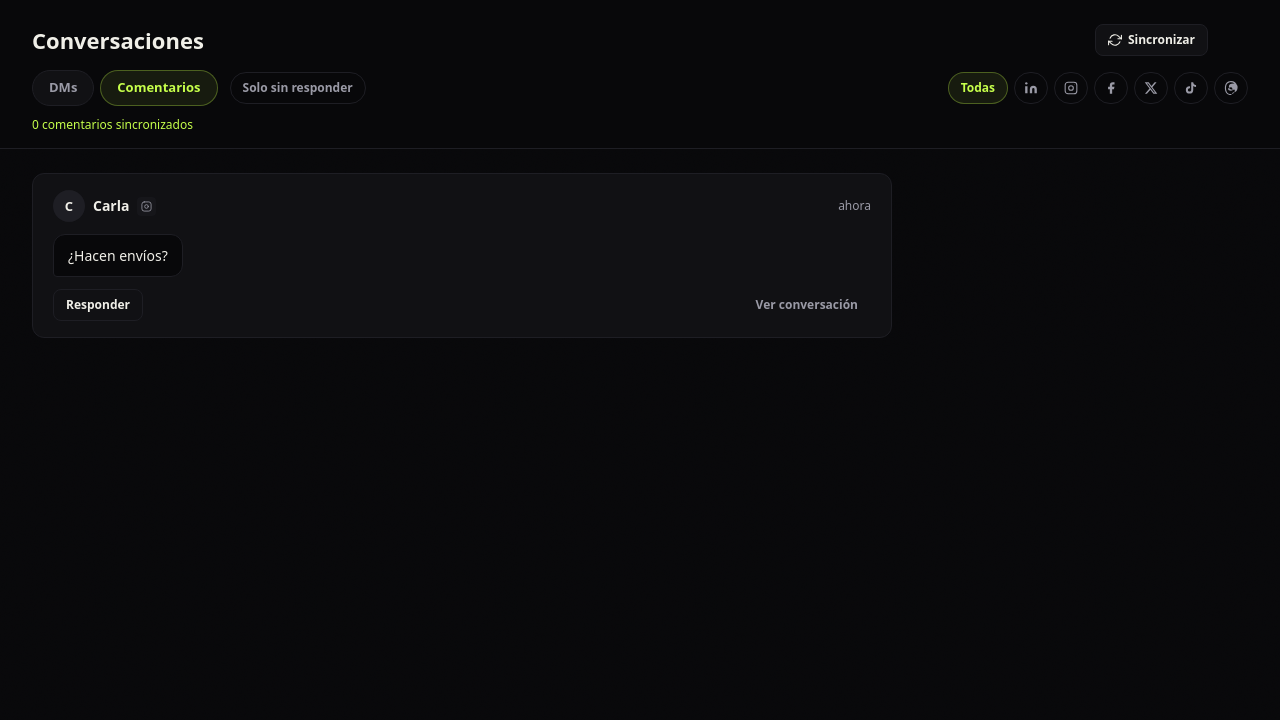
it: Conversaciones — pestañas y comentarios › «Ver conversación» abre el diálogo compartido con la conversación completa
Click the button "Ver conversación".
click(807, 305)  # box [743,289,871,321]
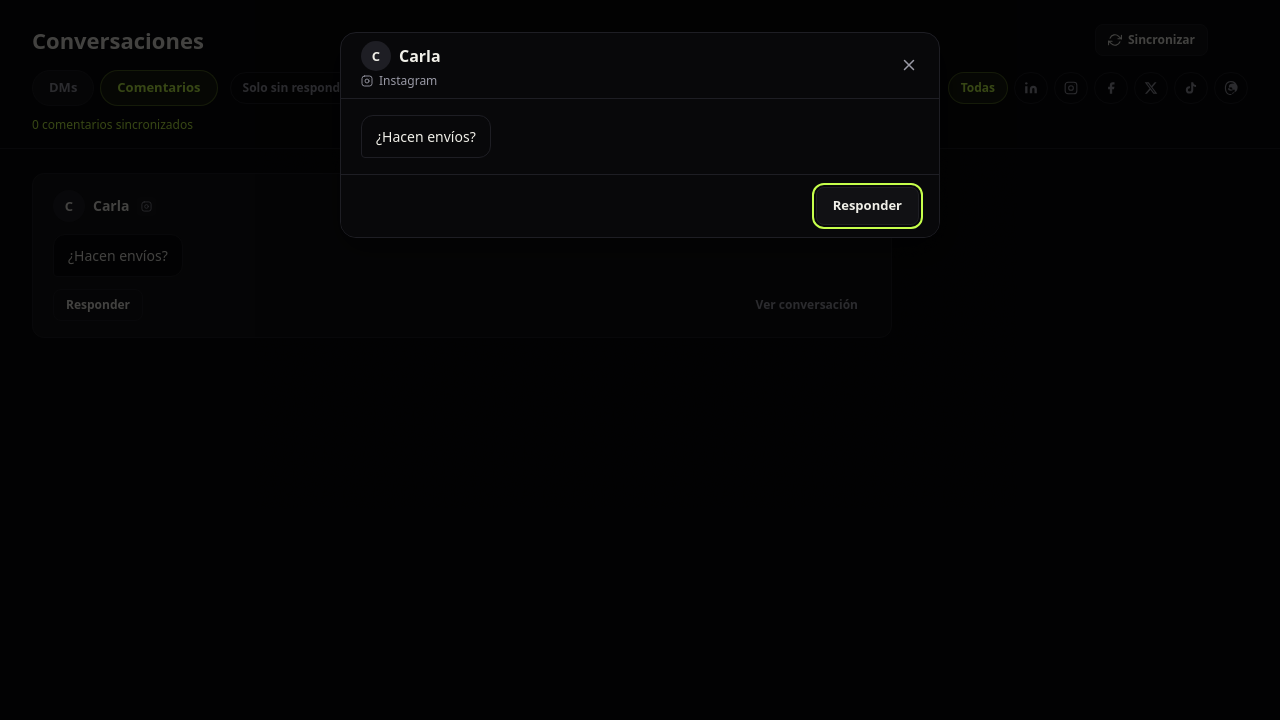
Expected: the text "¿Hacen envíos?" is shown, [376,126,476,147]
Expected: the button "Responder" is shown, [816,187,919,225]
